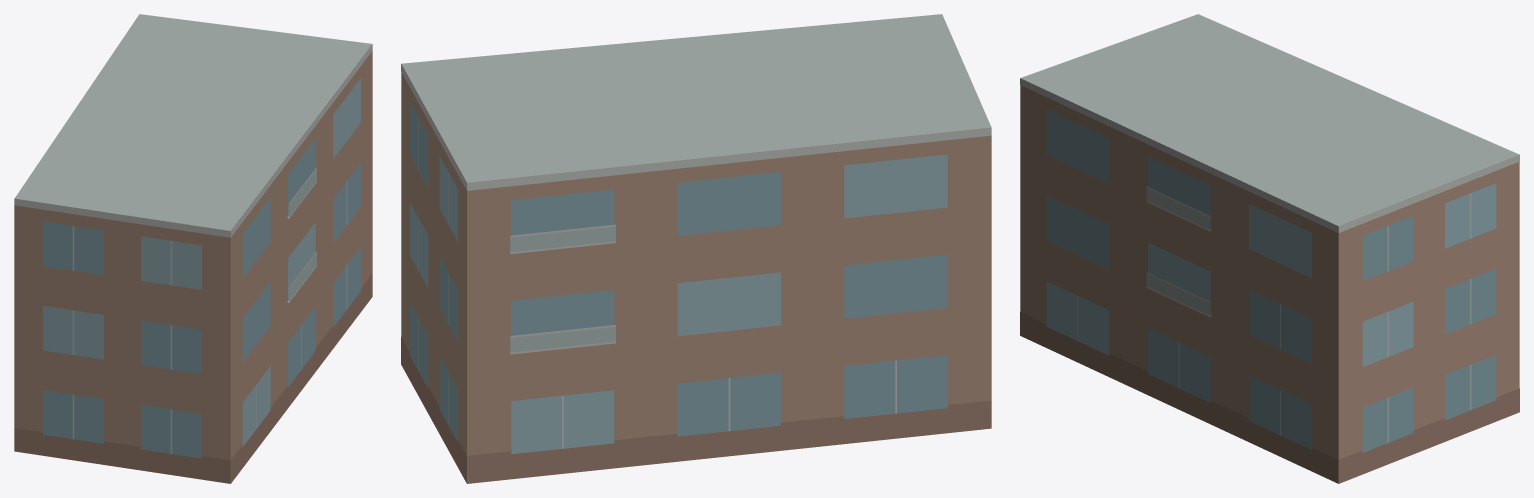
The model's file is survey-upis-32513533.glb.
The picture shows the model from 3 angles, left to right: view 1: azimuth 30°, elevation 25°; view 2: azimuth 150°, elevation 25°; view 3: azimuth 270°, elevation 25°; orthographic projection. The views are drawn at different scales.
Parts seen in each view (by area): view 1: survey-upis-32513533.tmp; view 2: survey-upis-32513533.tmp; view 3: survey-upis-32513533.tmp.
Boxes of the visible parts, <box> form: survey-upis-32513533.tmp: <box>14,14,372,483</box>; survey-upis-32513533.tmp: <box>401,14,991,483</box>; survey-upis-32513533.tmp: <box>1020,14,1519,483</box>.
Bounding box in the file's own units: 16.18 × 9.15 × 16.09.
